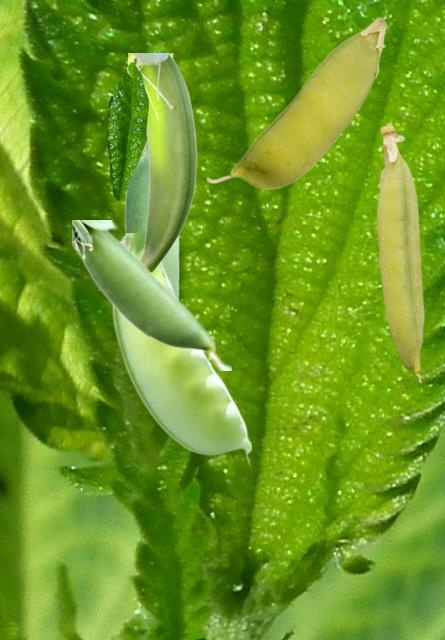pea: (111, 233, 250, 467), (206, 17, 386, 188), (72, 220, 230, 369), (128, 53, 199, 272), (376, 122, 424, 382), (124, 141, 178, 297)
